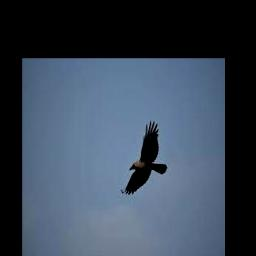Crow: (125, 120, 167, 195)
